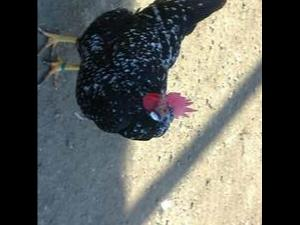hen: (38, 0, 228, 140)
